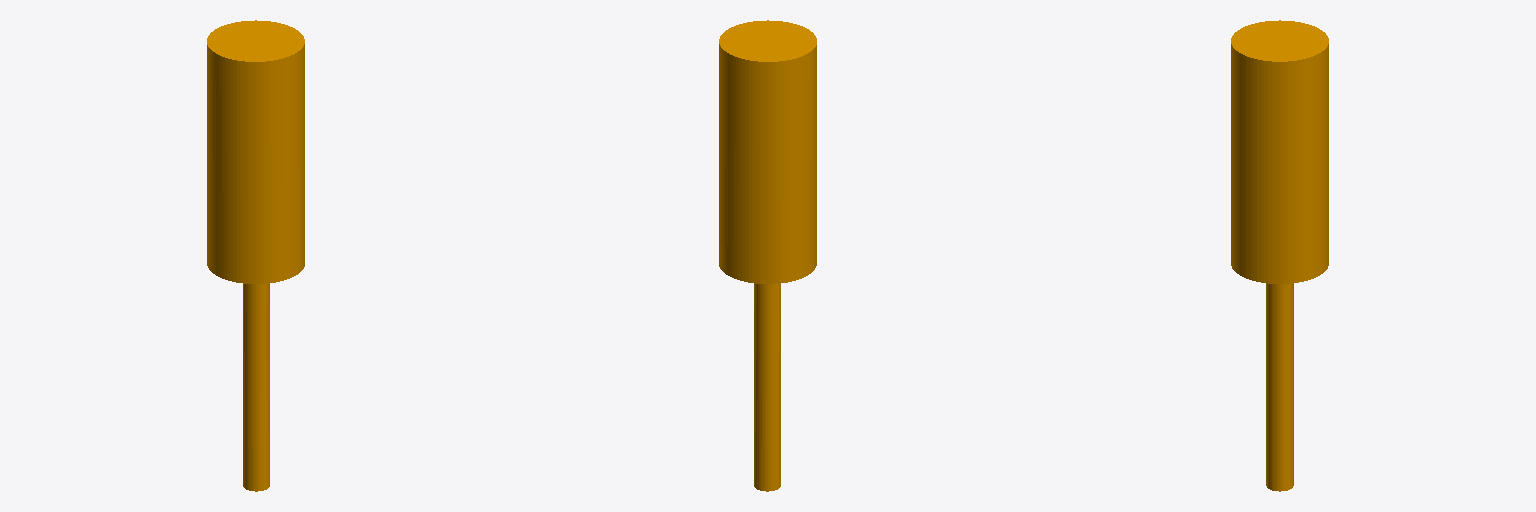
robot.urdf — cyl:
<?xml version="1.0" ?>

<robot name="cyl">

    <link name="cyl_object">
        <inertial>
            <mass value="0.1" />
            <inertia ixx="0.1" ixy="0"  ixz="0"
                    iyy="0.1" iyz="0"
                    izz="0.1" />
        </inertial> 
        <visual>
            <geometry>
                <mesh filename="package://hand_simulator/meshes/screwdriver.STL"/>
            </geometry>
            <origin rpy="0 3.14 0" xyz="0 0 0"/>
            <material name="Blue" />
        </visual>
        <collision>
            <geometry>
                <mesh filename="package://hand_simulator/meshes/screwdriver.STL"/>
            </geometry>
            <origin rpy="0 3.14 0" xyz="0 0 0"/>
        </collision>
    </link>

    <gazebo reference="cyl_object">
      <mu1>1.16</mu1>
      <mu2>1.16</mu2>
      <material>Gazebo/Green </material>
    </gazebo>

</robot>

--- What the picture shows (computed from the rendered views, not written in the file) ---
The picture shows the robot from 3 angles, left to right: view 1: azimuth 30°, elevation 25°; view 2: azimuth 150°, elevation 25°; view 3: azimuth 270°, elevation 25°; orthographic projection.
Robot: cyl — 1 links, 0 joints (none); root link cyl_object; default pose: all joints at 0.
Links seen in each view (by area): view 1: cyl_object; view 2: cyl_object; view 3: cyl_object.
Link boxes in pixels (left/top/right/bottom): cyl_object: left=207, top=20, right=304, bottom=491; cyl_object: left=719, top=20, right=816, bottom=491; cyl_object: left=1231, top=20, right=1328, bottom=491.
Bounding box of the posed robot: 0.0361 × 0.036 × 0.18 m (x, y, z).
1 mesh visuals loaded from 1 distinct referenced files (1 binary STL).